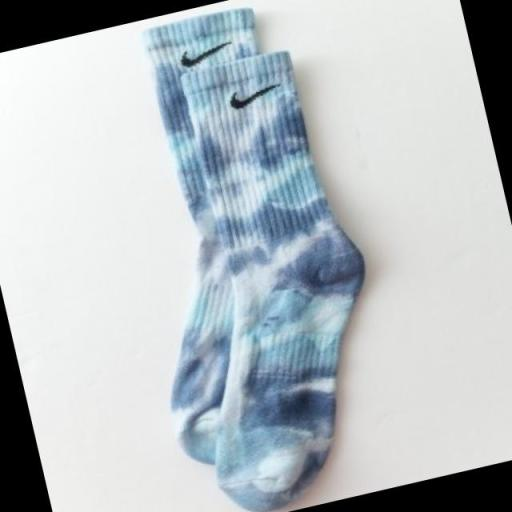Nike: (225, 79, 290, 114)
